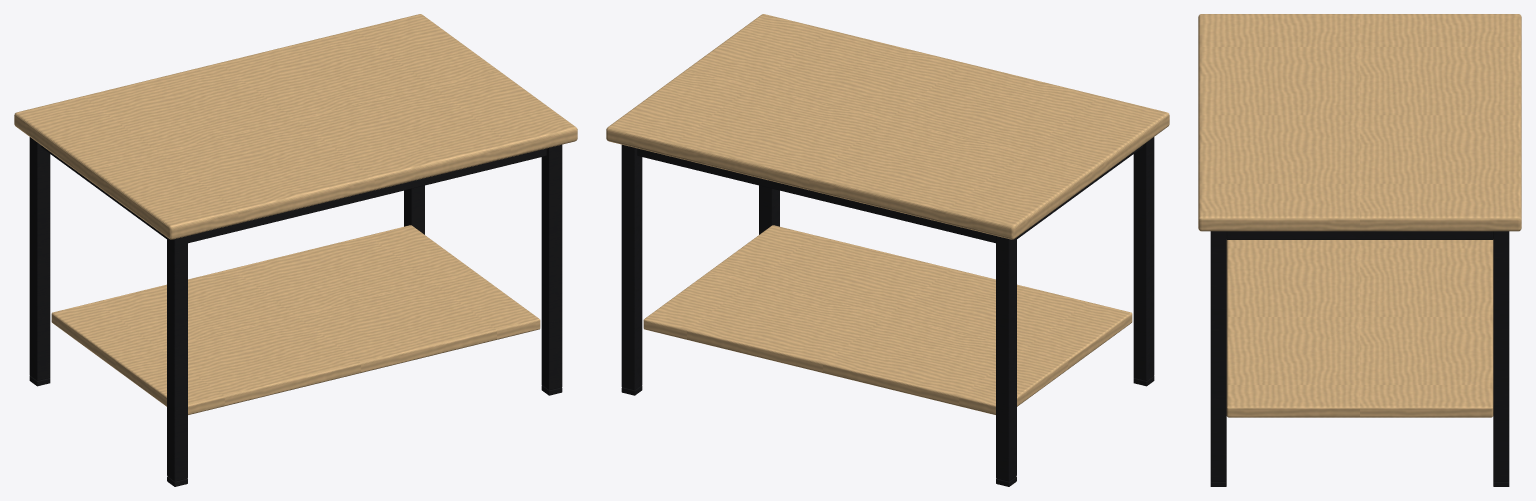
File: display_table.glb
3 views of the same model, side by side, from view 1: azimuth 30°, elevation 25°; view 2: azimuth 150°, elevation 25°; view 3: azimuth 270°, elevation 25° (orthographic). The views are drawn at different scales.
Visible parts, largest first — view 1: display_table.001; view 2: display_table.001; view 3: display_table.001.
Part boxes in pixels (<box>): display_table.001: <box>14,14,577,486</box>; display_table.001: <box>606,14,1169,486</box>; display_table.001: <box>1198,14,1521,486</box>.
Size of what is drawn, in the model's own units: 1.2 by 0.75 by 0.8.
3 materials, 3 textured.
